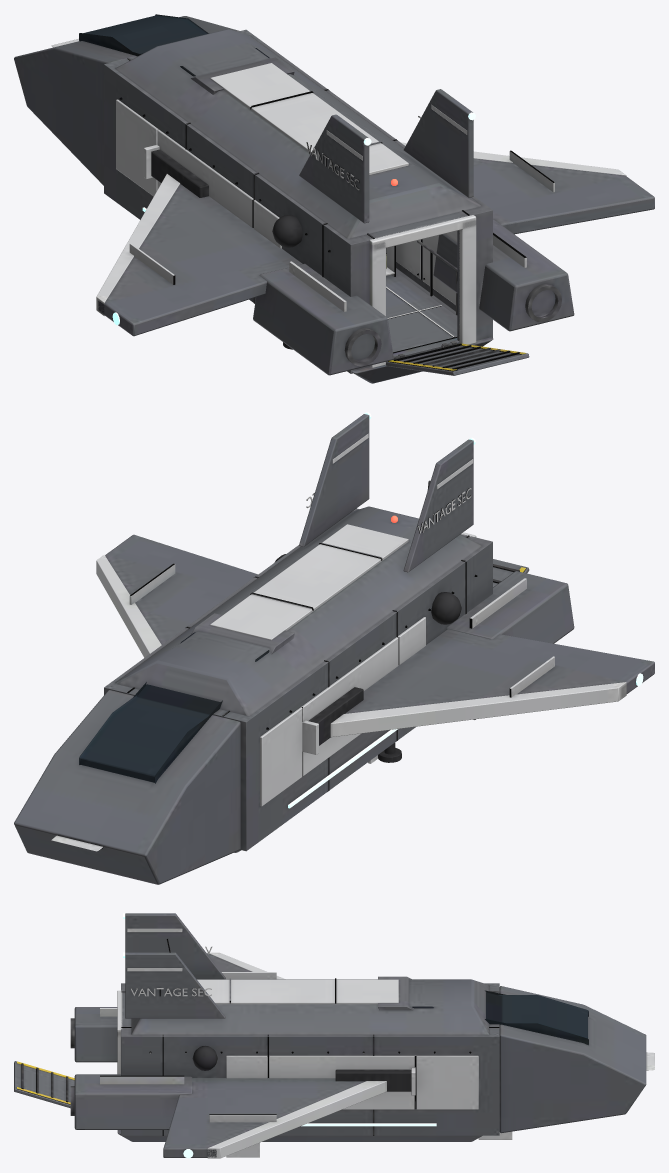
The model's file is vantage.glb.
3 renders of one model, top to bottom at view 1: azimuth 30°, elevation 25°; view 2: azimuth 150°, elevation 25°; view 3: azimuth 270°, elevation 25°, orthographic. The views are drawn at different scales.
Parts seen in each view (by area): view 1: hull, glass, ramp.001; view 2: hull, glass, lights; view 3: hull, glass, ramp.001, lights.
Boxes of the visible parts, x1,y1,x2,y2 form: hull: [14, 16, 654, 383]; glass: [79, 14, 269, 76]; ramp.001: [386, 343, 529, 375]; hull: [14, 414, 654, 884]; glass: [79, 632, 269, 783]; lights: [114, 412, 643, 808]; hull: [70, 913, 654, 1158]; glass: [412, 990, 588, 1045]; ramp.001: [14, 1061, 74, 1108]; lights: [123, 913, 436, 1158].
Bounding box in the file's own units: 11.04 × 5.32 × 15.23.
14 materials, 10 textured.
